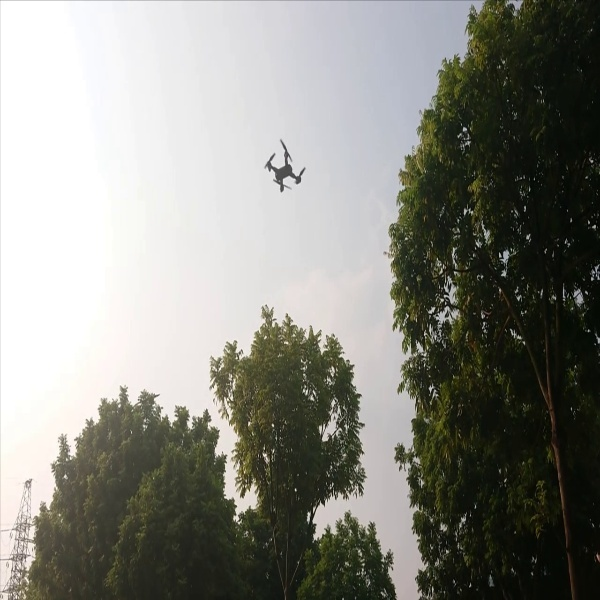drone: (256, 135, 308, 200)
